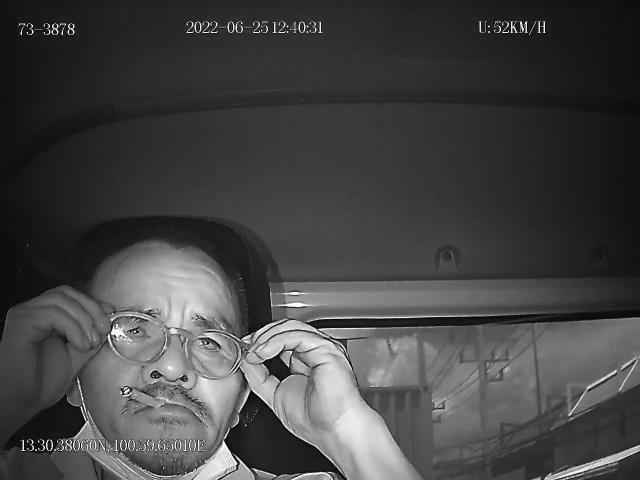SafeDriving: (188, 326, 228, 357), (118, 317, 156, 343)
Smoking: (116, 384, 166, 408)
